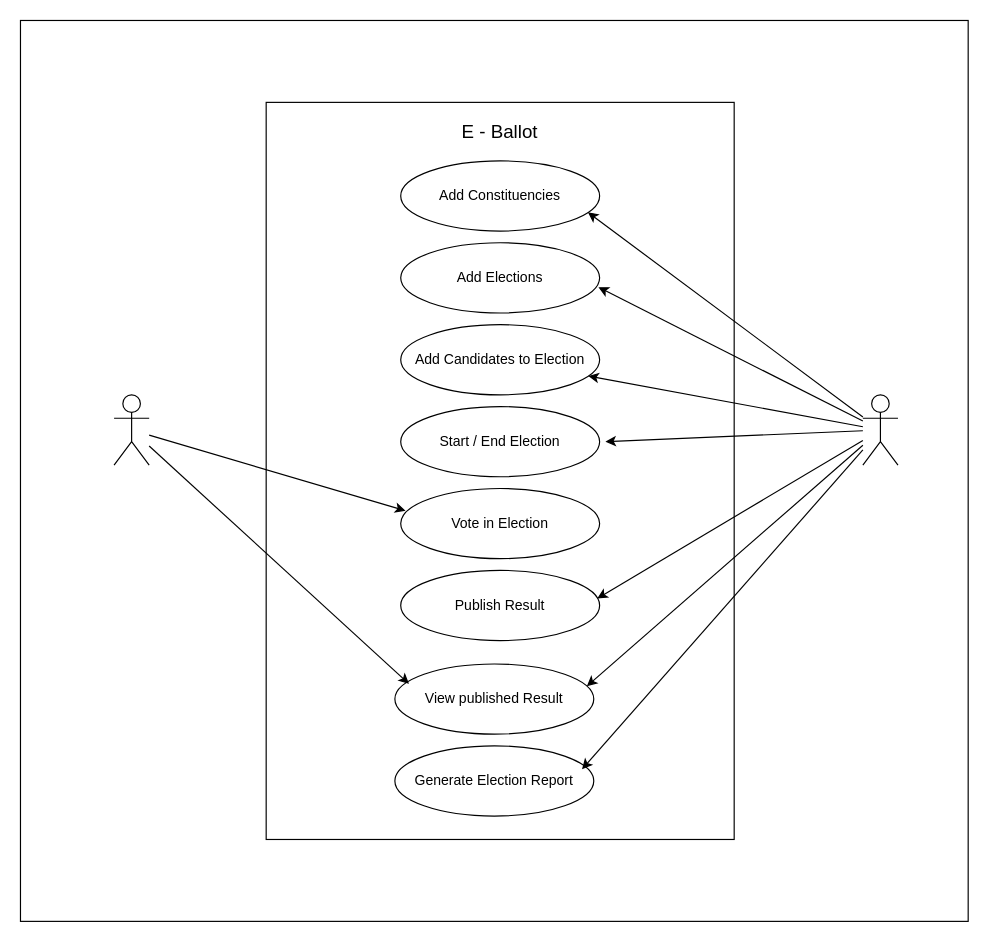
Some shapes in this 989 by 942 pixel diagram are drawn without their labels. Each missing label, with the centre of its shape:
Admin: (x=880, y=429)
Voter: (x=131, y=429)
